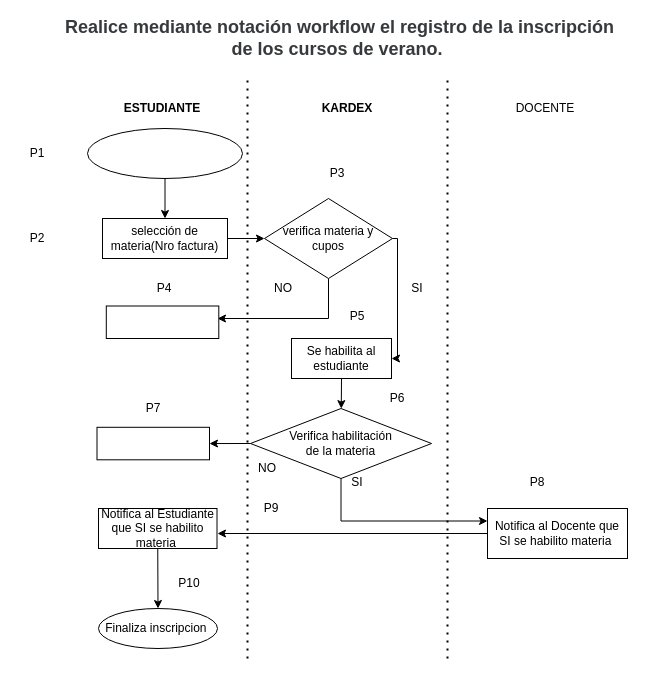
The diagram is 645 pixels wide and 678 high, and some of its shapes have lost their labels. Each missing label, with the centre of its shape:
"Inicio (llenado de datos)" goes at (x=164, y=153).
"Notifica que no existe cupo" goes at (x=162, y=321).
"Notifica que NO se habilito la materia" goes at (x=153, y=443).
